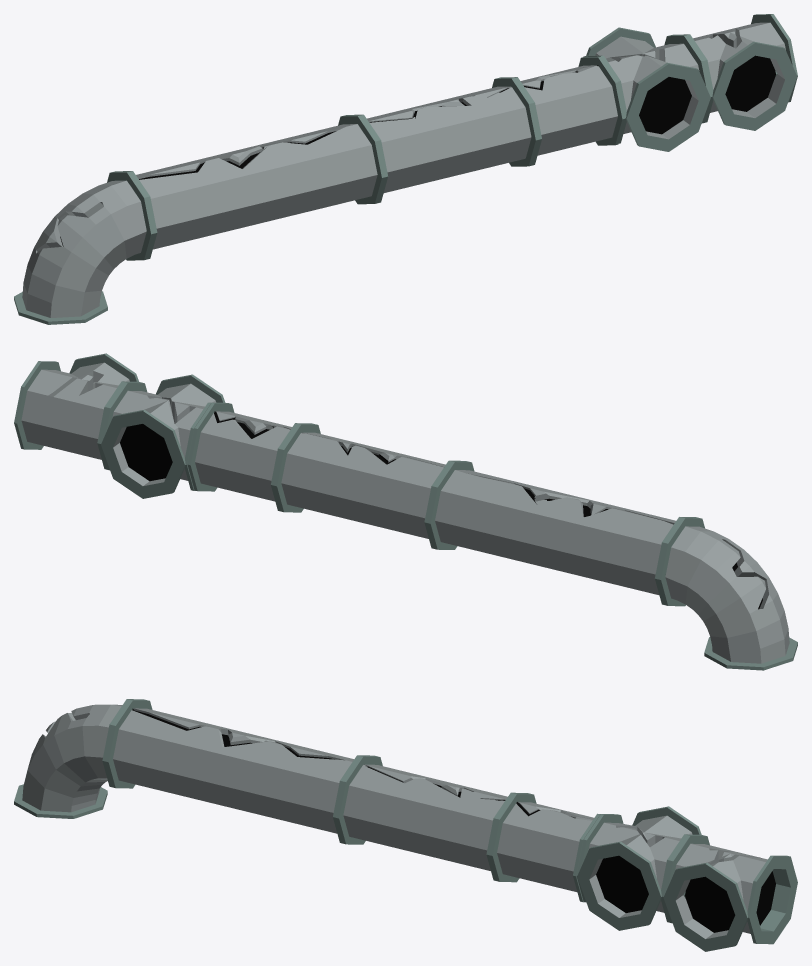
The model's file is broken_modular_pipe_set.glb.
The picture shows the model from 3 angles, top to bottom: view 1: azimuth 30°, elevation 25°; view 2: azimuth 150°, elevation 25°; view 3: azimuth 330°, elevation 25°; orthographic projection.
Visible parts, largest first — view 1: Pipe_broken_long, Pipe_broken_90Angle, Pipe_broken_medium, Pipe_broken_4Way, Pipe_broken_3Way, Pipe_broken_short; view 2: Pipe_broken_long, Pipe_broken_90Angle, Pipe_broken_medium, Pipe_broken_4Way, Pipe_broken_3Way, Pipe_broken_short; view 3: Pipe_broken_long, Pipe_broken_medium, Pipe_broken_3Way, Pipe_broken_4Way, Pipe_broken_90Angle, Pipe_broken_short.
Boxes of the visible parts, x1=… form: Pipe_broken_long: x1=113, y1=115, x2=384, y2=259; Pipe_broken_90Angle: x1=14, y1=171, x2=154, y2=324; Pipe_broken_medium: x1=345, y1=78, x2=538, y2=202; Pipe_broken_4Way: x1=583, y1=27, x2=711, y2=151; Pipe_broken_3Way: x1=671, y1=14, x2=797, y2=130; Pipe_broken_short: x1=498, y1=56, x2=625, y2=165; Pipe_broken_long: x1=427, y1=461, x2=698, y2=604; Pipe_broken_90Angle: x1=658, y1=517, x2=797, y2=670; Pipe_broken_medium: x1=274, y1=424, x2=467, y2=548; Pipe_broken_4Way: x1=100, y1=374, x2=225, y2=498; Pipe_broken_3Way: x1=14, y1=353, x2=141, y2=469; Pipe_broken_short: x1=187, y1=402, x2=314, y2=511; Pipe_broken_long: x1=105, y1=699, x2=376, y2=843; Pipe_broken_medium: x1=336, y1=756, x2=529, y2=880; Pipe_broken_3Way: x1=663, y1=835, x2=797, y2=951; Pipe_broken_4Way: x1=576, y1=806, x2=702, y2=930; Pipe_broken_90Angle: x1=14, y1=699, x2=145, y2=818; Pipe_broken_short: x1=489, y1=793, x2=613, y2=902.
Bounding box in the file's own units: 3.27 × 0.4825 × 0.375.
1 material, 1 textured.
